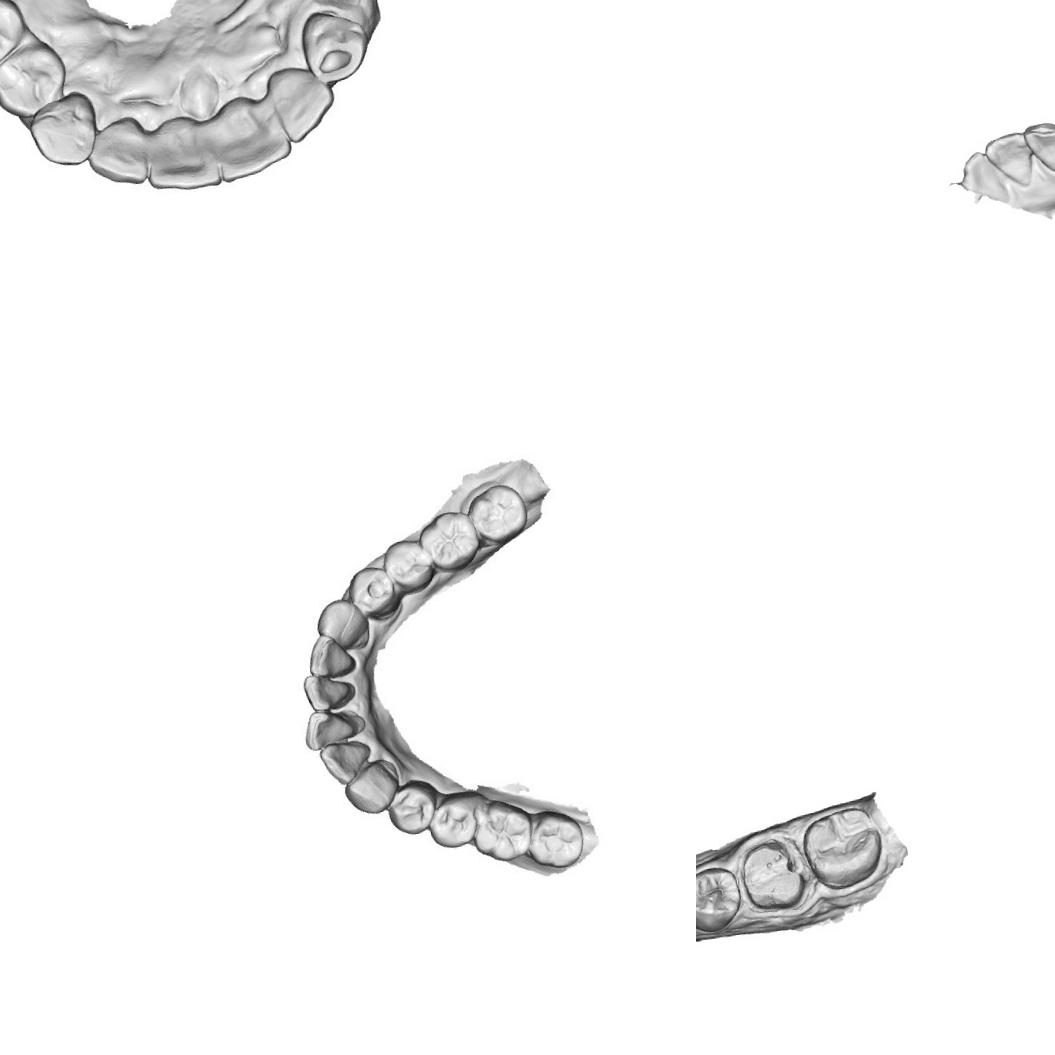canine: (25, 90, 101, 170), (299, 6, 375, 84), (340, 761, 401, 818), (312, 594, 370, 650), (1021, 118, 1055, 177)
crown: (734, 834, 812, 918)
incisor: (211, 88, 295, 181), (142, 108, 230, 196), (268, 62, 338, 140), (83, 111, 150, 188), (954, 146, 1016, 211), (982, 129, 1036, 192), (300, 704, 362, 754), (317, 739, 372, 788), (304, 630, 356, 679), (299, 668, 351, 715)
molar: (798, 804, 889, 895), (467, 796, 535, 866), (414, 506, 484, 572), (466, 480, 532, 546), (523, 808, 588, 873)
premolar: (0, 32, 64, 116), (380, 534, 440, 595), (696, 862, 746, 935), (424, 791, 482, 852), (344, 562, 401, 623), (384, 778, 438, 839), (0, 0, 26, 68)
